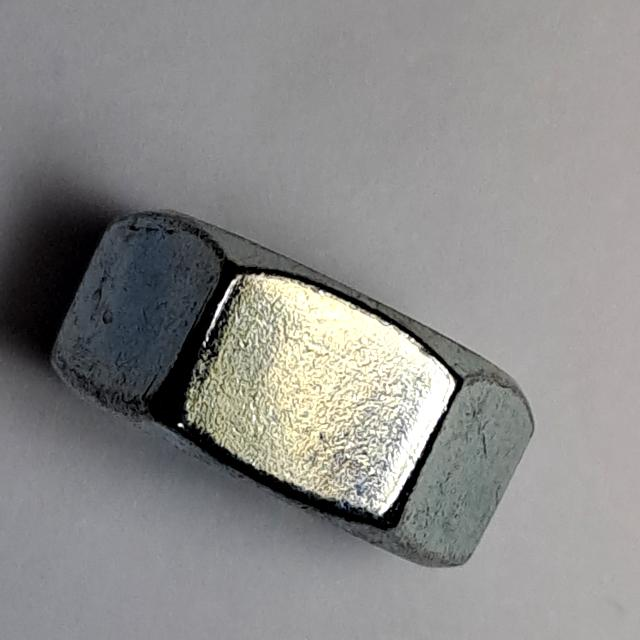Side_Excellent: (40, 203, 558, 584)
